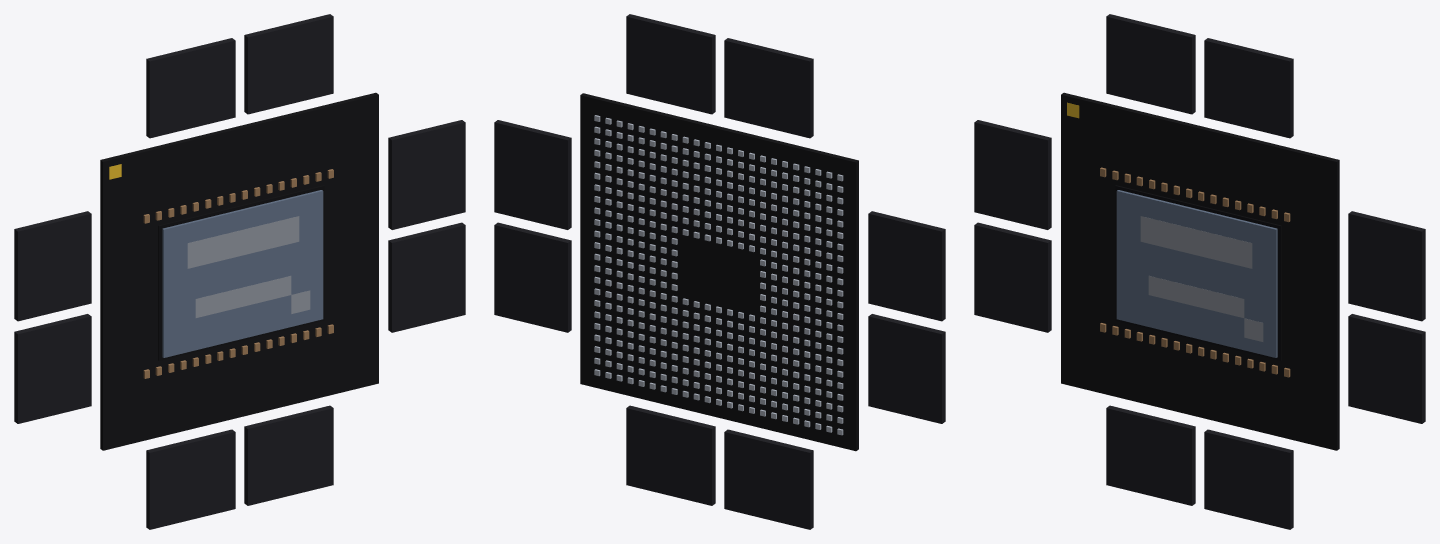
Rendered from GPU_AMD_RADEON_RX_7900M_LAPTOP_BGA.obj.
3 views of the same model, side by side, from view 1: azimuth 30°, elevation 25°; view 2: azimuth 150°, elevation 25°; view 3: azimuth 330°, elevation 25° (orthographic).
Bounding box in the file's own units: 73 × 73 × 1.81.
